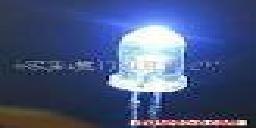LED: (107, 21, 191, 114)
